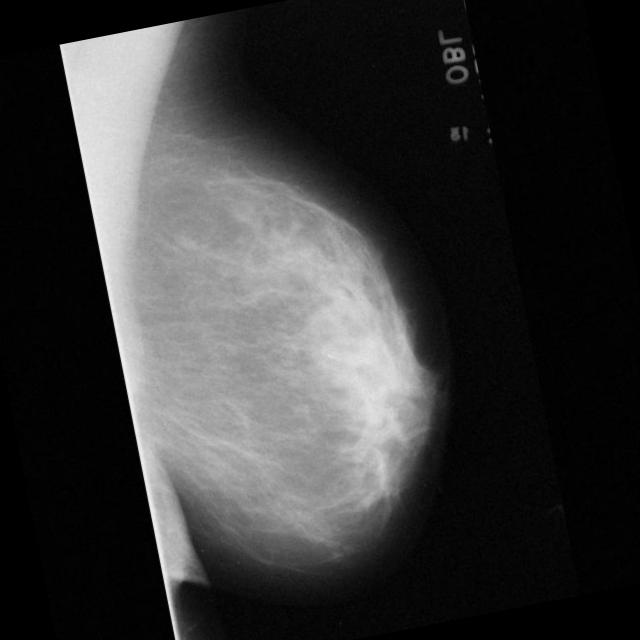CALC: (304, 242, 316, 254)
